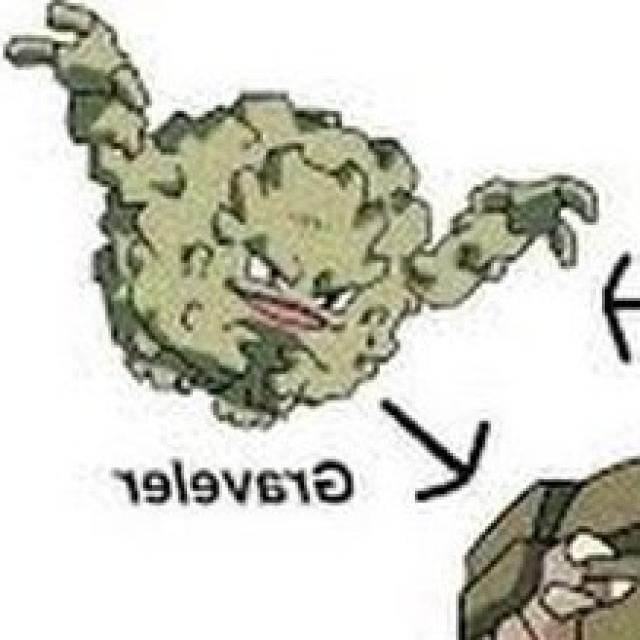Graveler: (37, 76, 518, 406)
